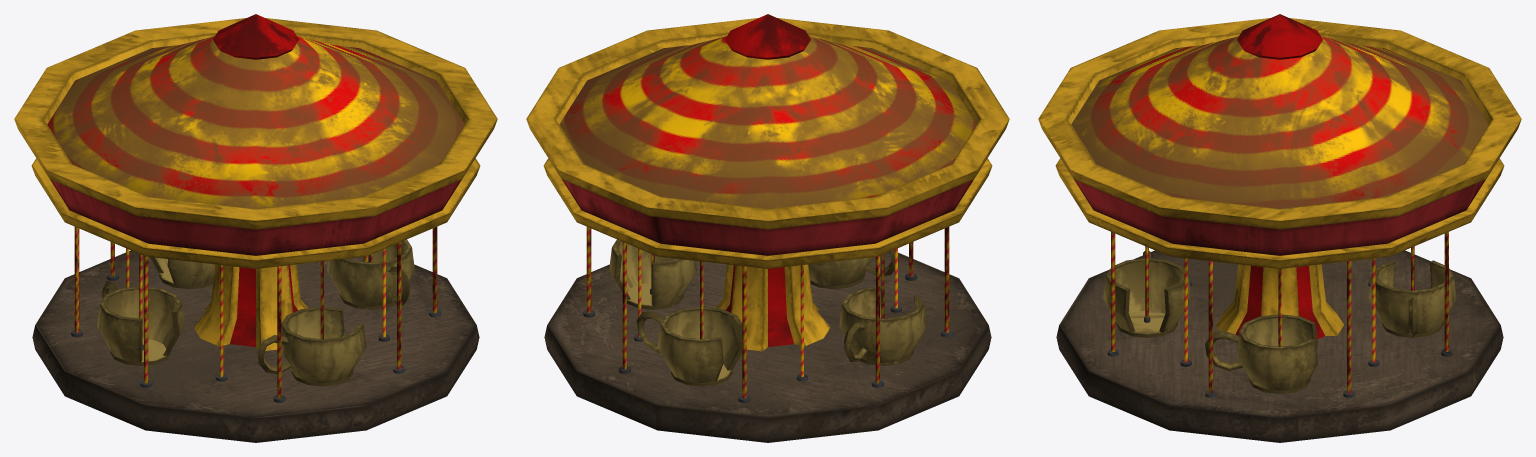
File: teacup.obj
3 renders of one model, left to right at view 1: azimuth 30°, elevation 25°; view 2: azimuth 150°, elevation 25°; view 3: azimuth 270°, elevation 25°, orthographic.
Visible parts, largest first — view 1: teacup; view 2: teacup; view 3: teacup.
Boxes of the visible parts, x1,y1,x2,y2 form: teacup: [14, 14, 497, 442]; teacup: [526, 14, 1009, 442]; teacup: [1038, 14, 1521, 442].
Bounding box in the file's own units: 7.84 × 6.01 × 7.84.
1 material, 1 textured.
